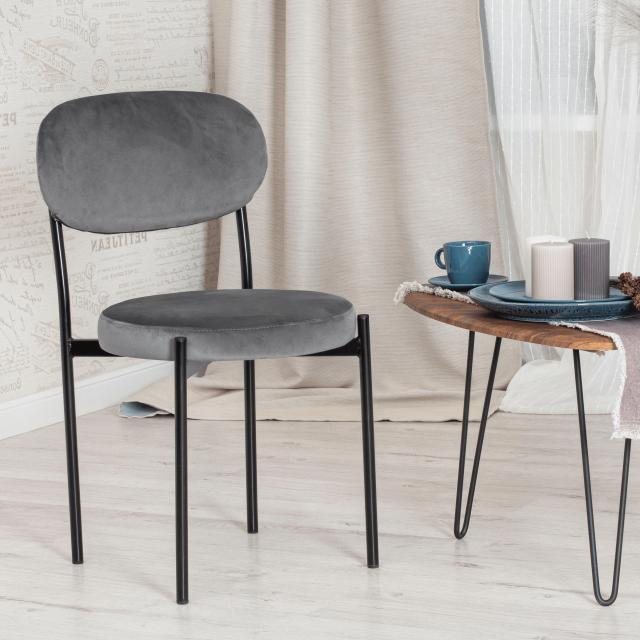chair: (29, 86, 384, 610), (40, 76, 382, 382)
